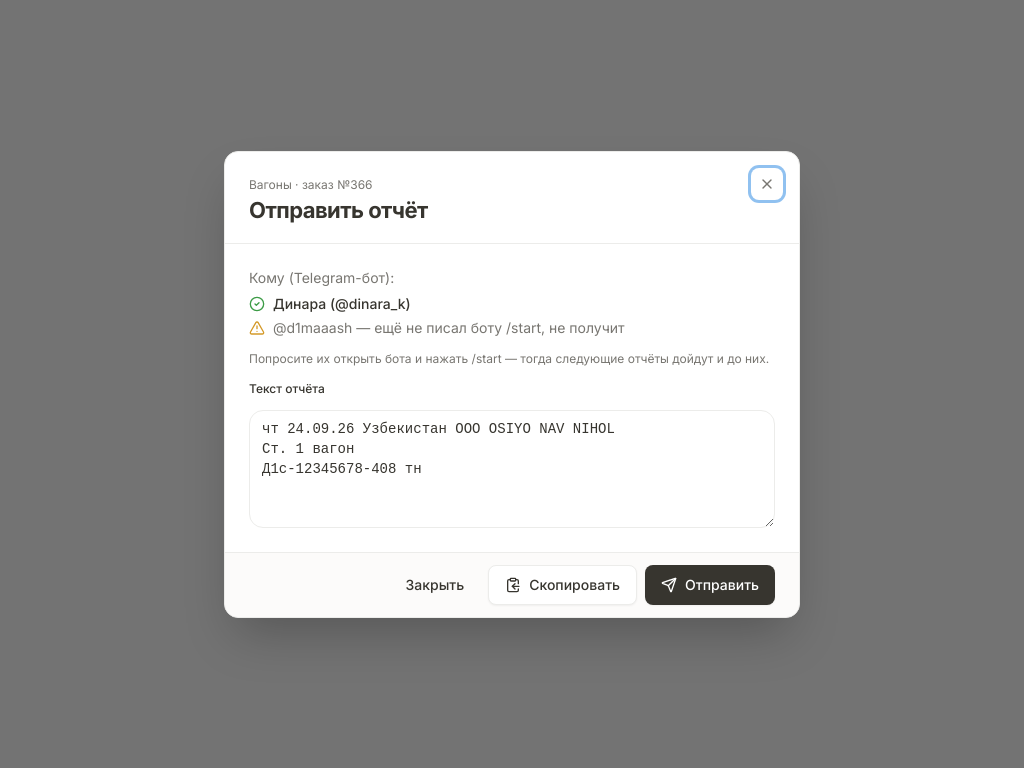
Test: WagonReportModal › бота выключили, пока окно было открыто — ошибка в окне, причина обновляется, текст остаётся
This screenshot has width=1024, height=768.
Click the button "Отправить".
click(710, 584)  # box [645,564,775,604]
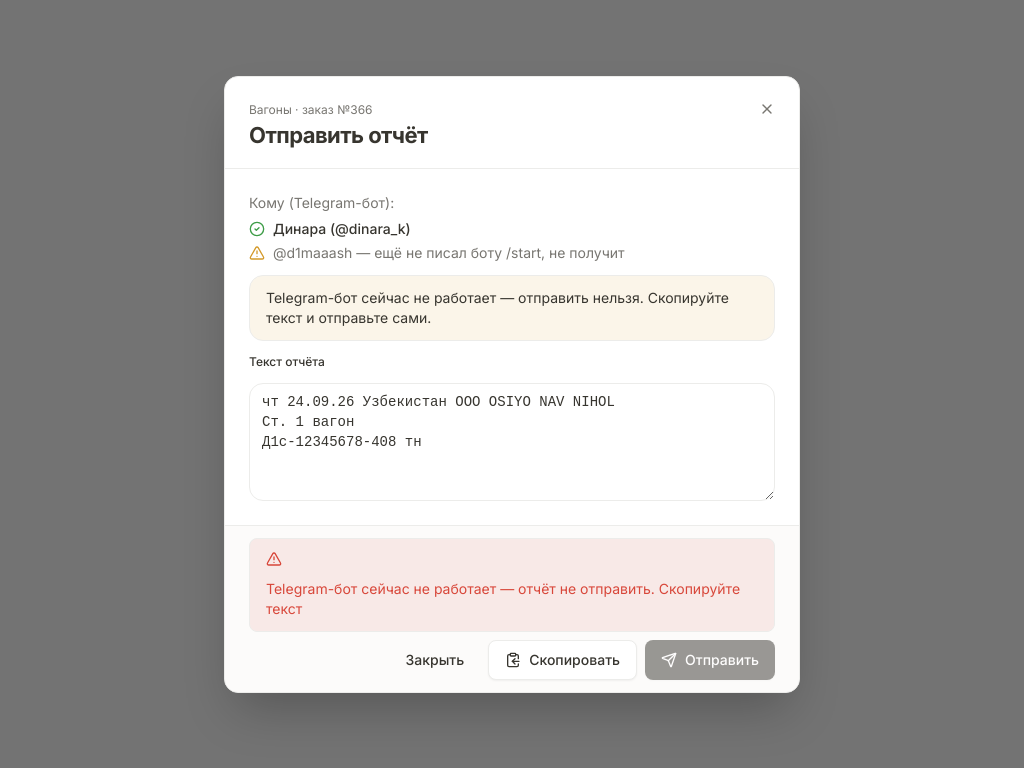
Now the message shows "Telegram-бот сейчас не работает", box [266,580,740,616]
Now the button "Отправить" is disabled, box [645,640,775,680]
